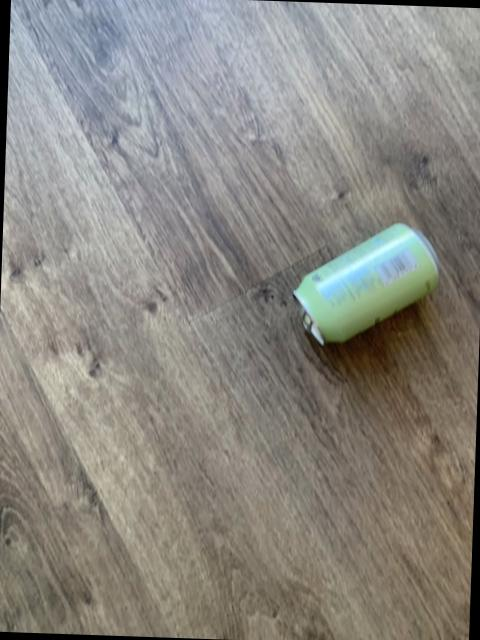metal: (293, 225, 437, 344)
